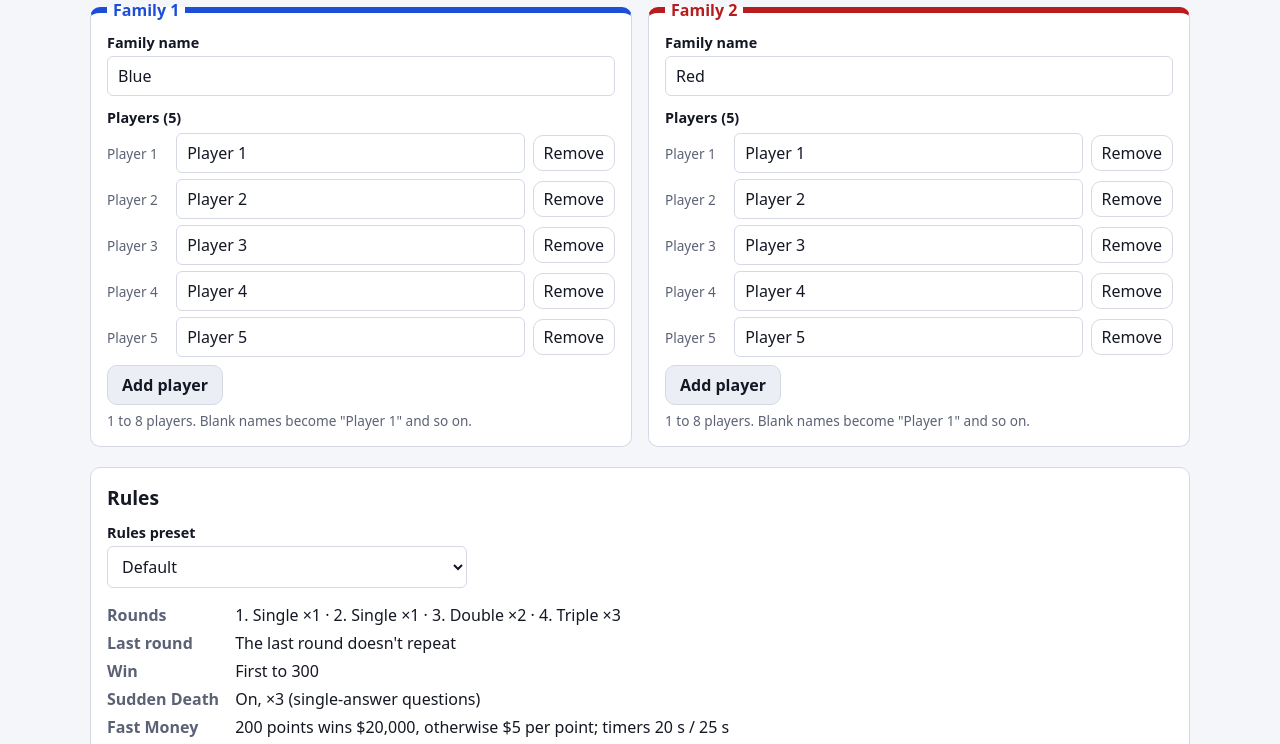
Test: RulesEditor: editing a copy › asks before discarding unsaved changes, and Escape closes
The image size is (1280, 744).
Select "House rules" in the dropdown labelled "Rules preset". click: {"x": 287, "y": 567}
box: [107,546,467,588]
(page scrolled)
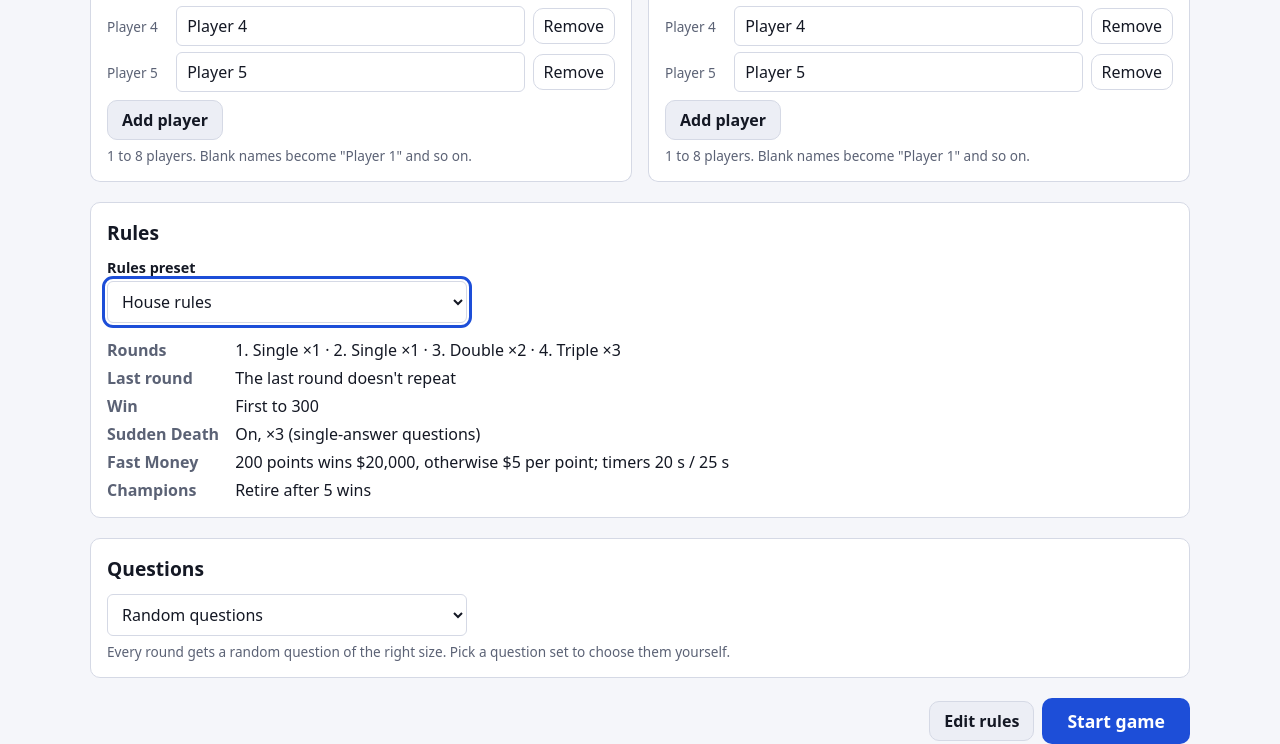
Click the button "Edit rules". click: {"x": 982, "y": 721}
box: [929,701,1034,741]
(page scrolled)
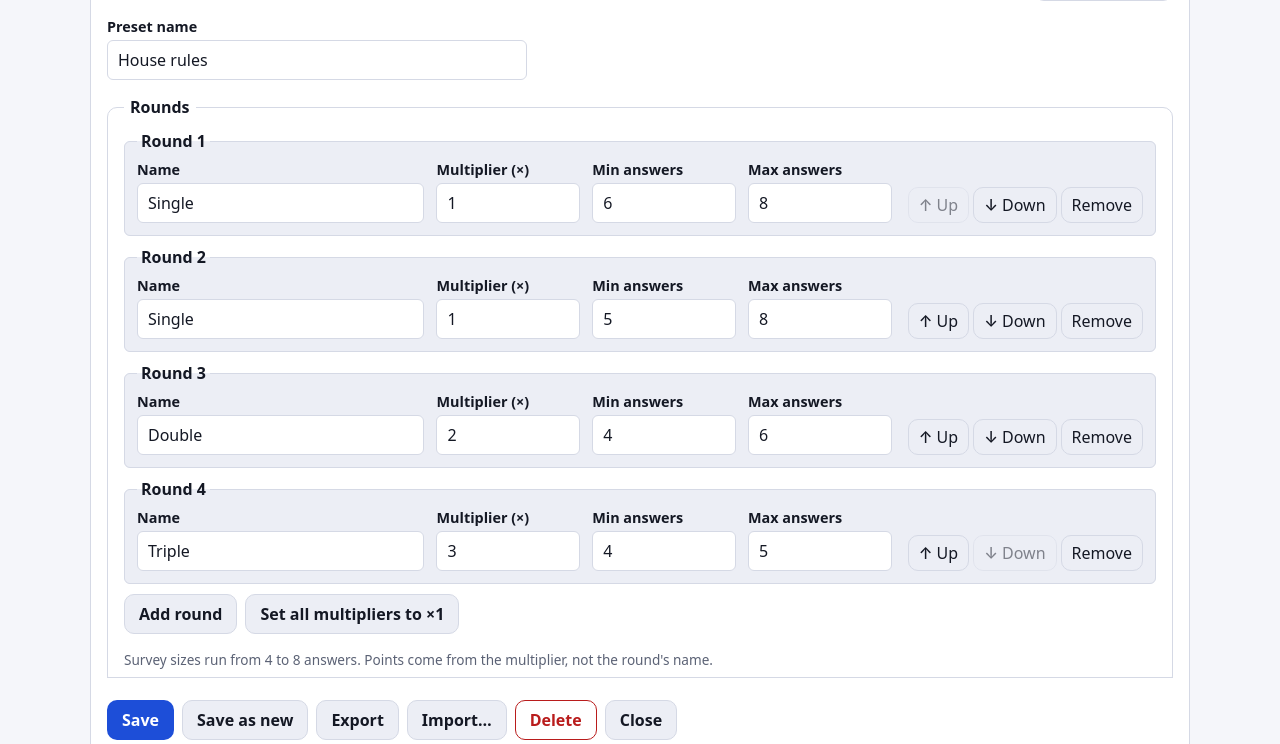
Type "!" into the field labelled "Preset name". click: {"x": 317, "y": 60}
box: [107,40,527,80]
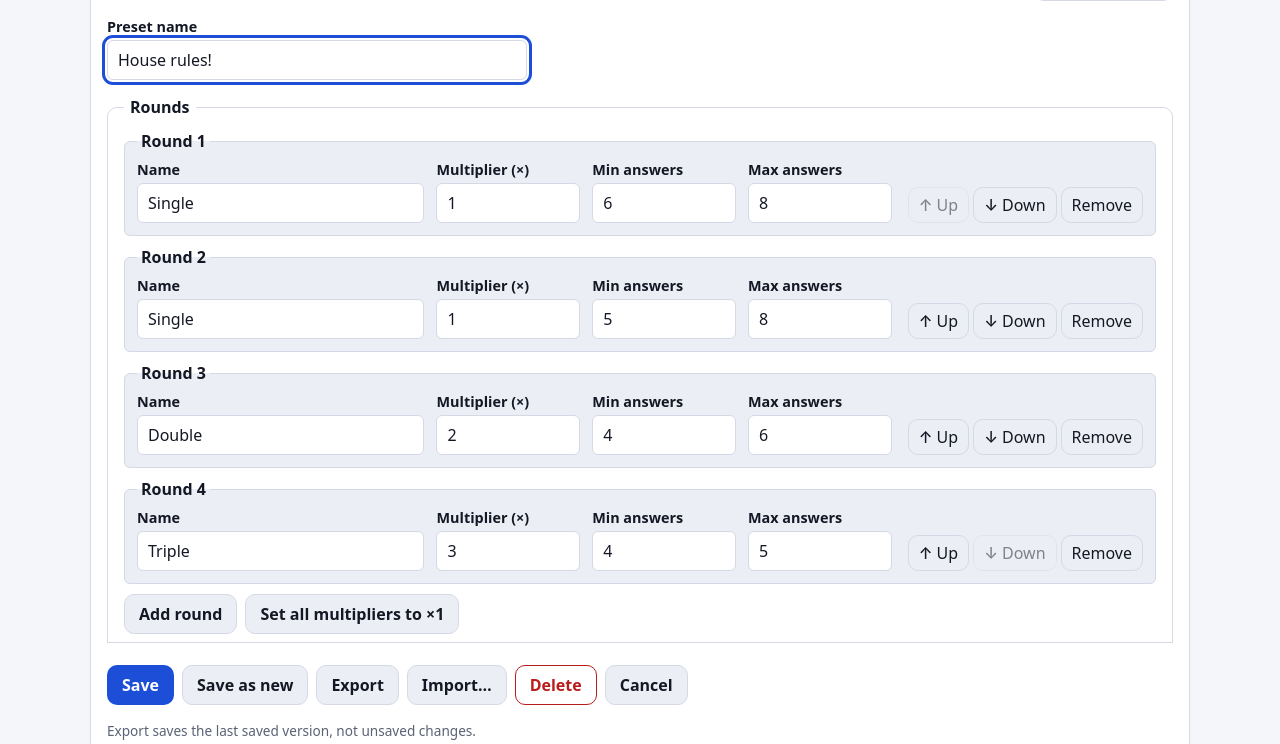
Click the button "Cancel". click: {"x": 646, "y": 685}
box: [605,665,688,705]
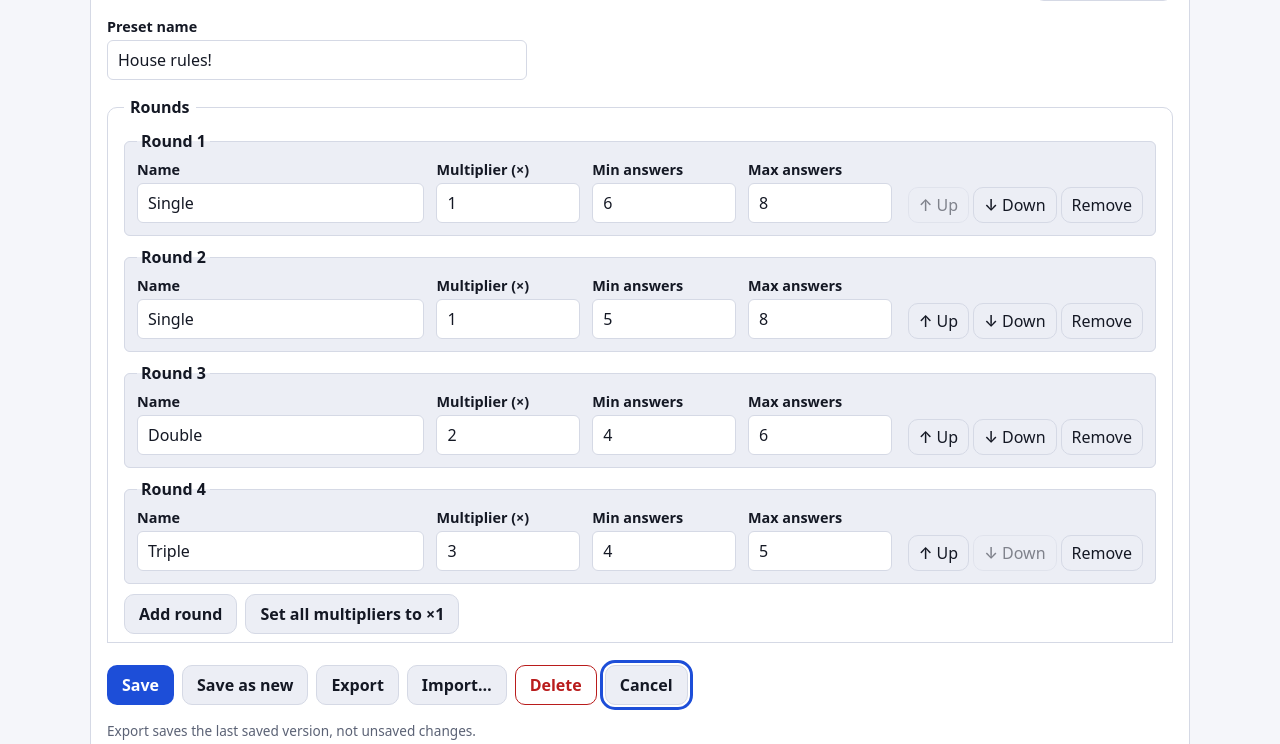
Result: the field labelled "Preset name" is shown at [107,40,527,80]
Press Escape
(page scrolled)
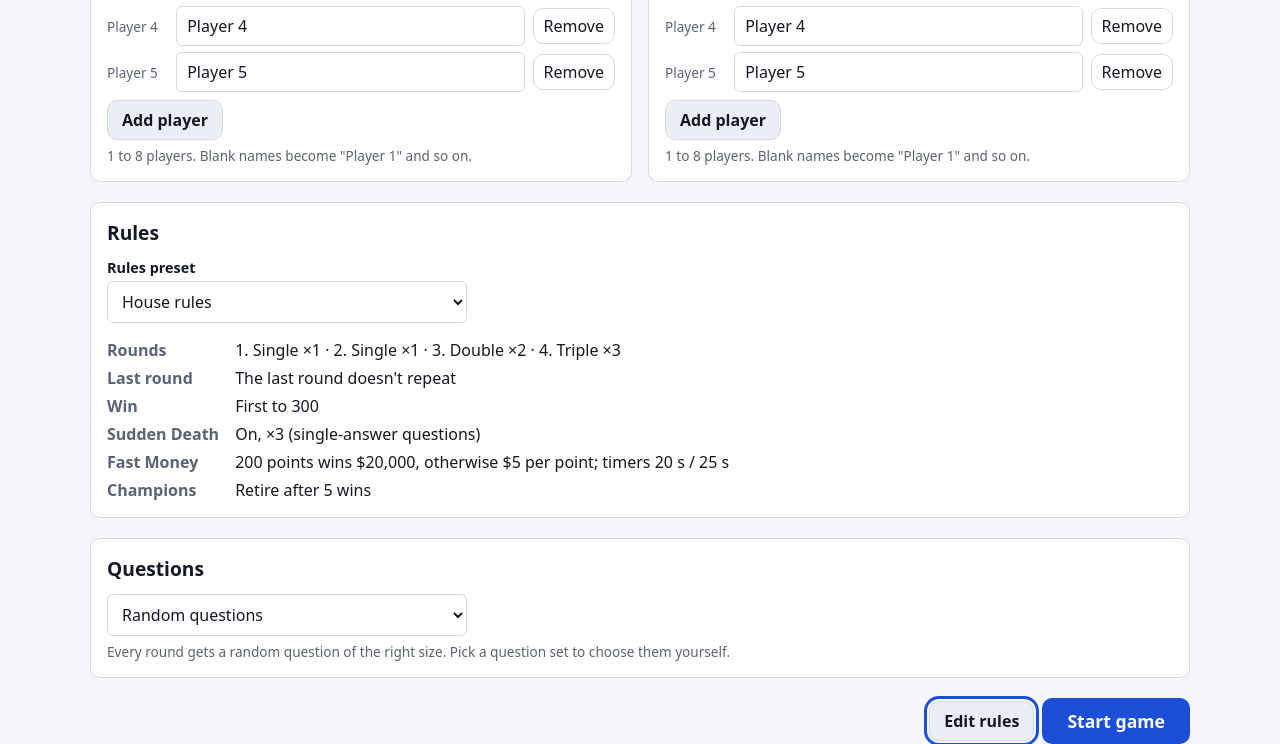
Result: the label labelled "Preset name" is gone
